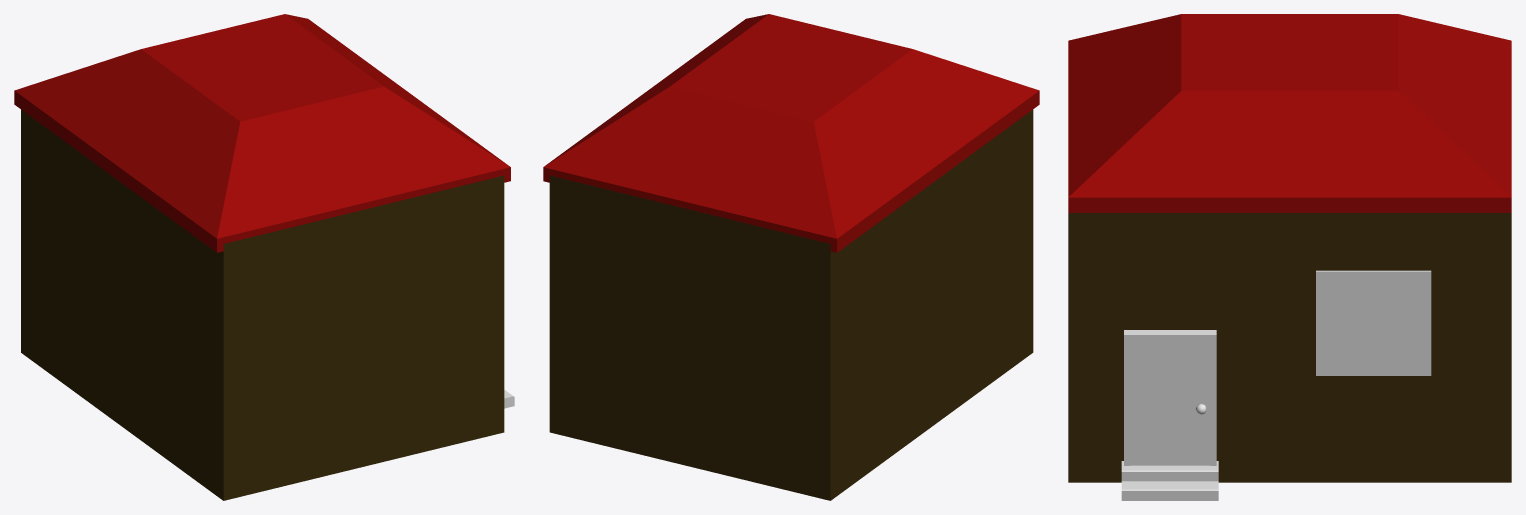
File: Huis7.fbx
3 renders of one model, left to right at view 1: azimuth 30°, elevation 25°; view 2: azimuth 150°, elevation 25°; view 3: azimuth 270°, elevation 25°, orthographic. The views are drawn at different scales.
Parts seen in each view (by area): view 1: Cube.042, Cube.061; view 2: Cube.042, Cube.061; view 3: Cube.042, Cube.061, Plane.013, Cube.045, Cube.044, Cube.043.
Boxes of the visible parts, bbox=[...] form: Cube.042: bbox=[21, 109, 504, 500]; Cube.061: bbox=[14, 14, 510, 252]; Cube.042: bbox=[549, 109, 1033, 500]; Cube.061: bbox=[543, 14, 1039, 252]; Cube.042: bbox=[1068, 213, 1511, 482]; Cube.061: bbox=[1068, 14, 1511, 212]; Plane.013: bbox=[1316, 270, 1431, 375]; Cube.045: bbox=[1130, 339, 1210, 465]; Cube.044: bbox=[1121, 461, 1218, 500]; Cube.043: bbox=[1124, 330, 1216, 465].
Bounding box in the file's own units: 183 × 177 × 200.
